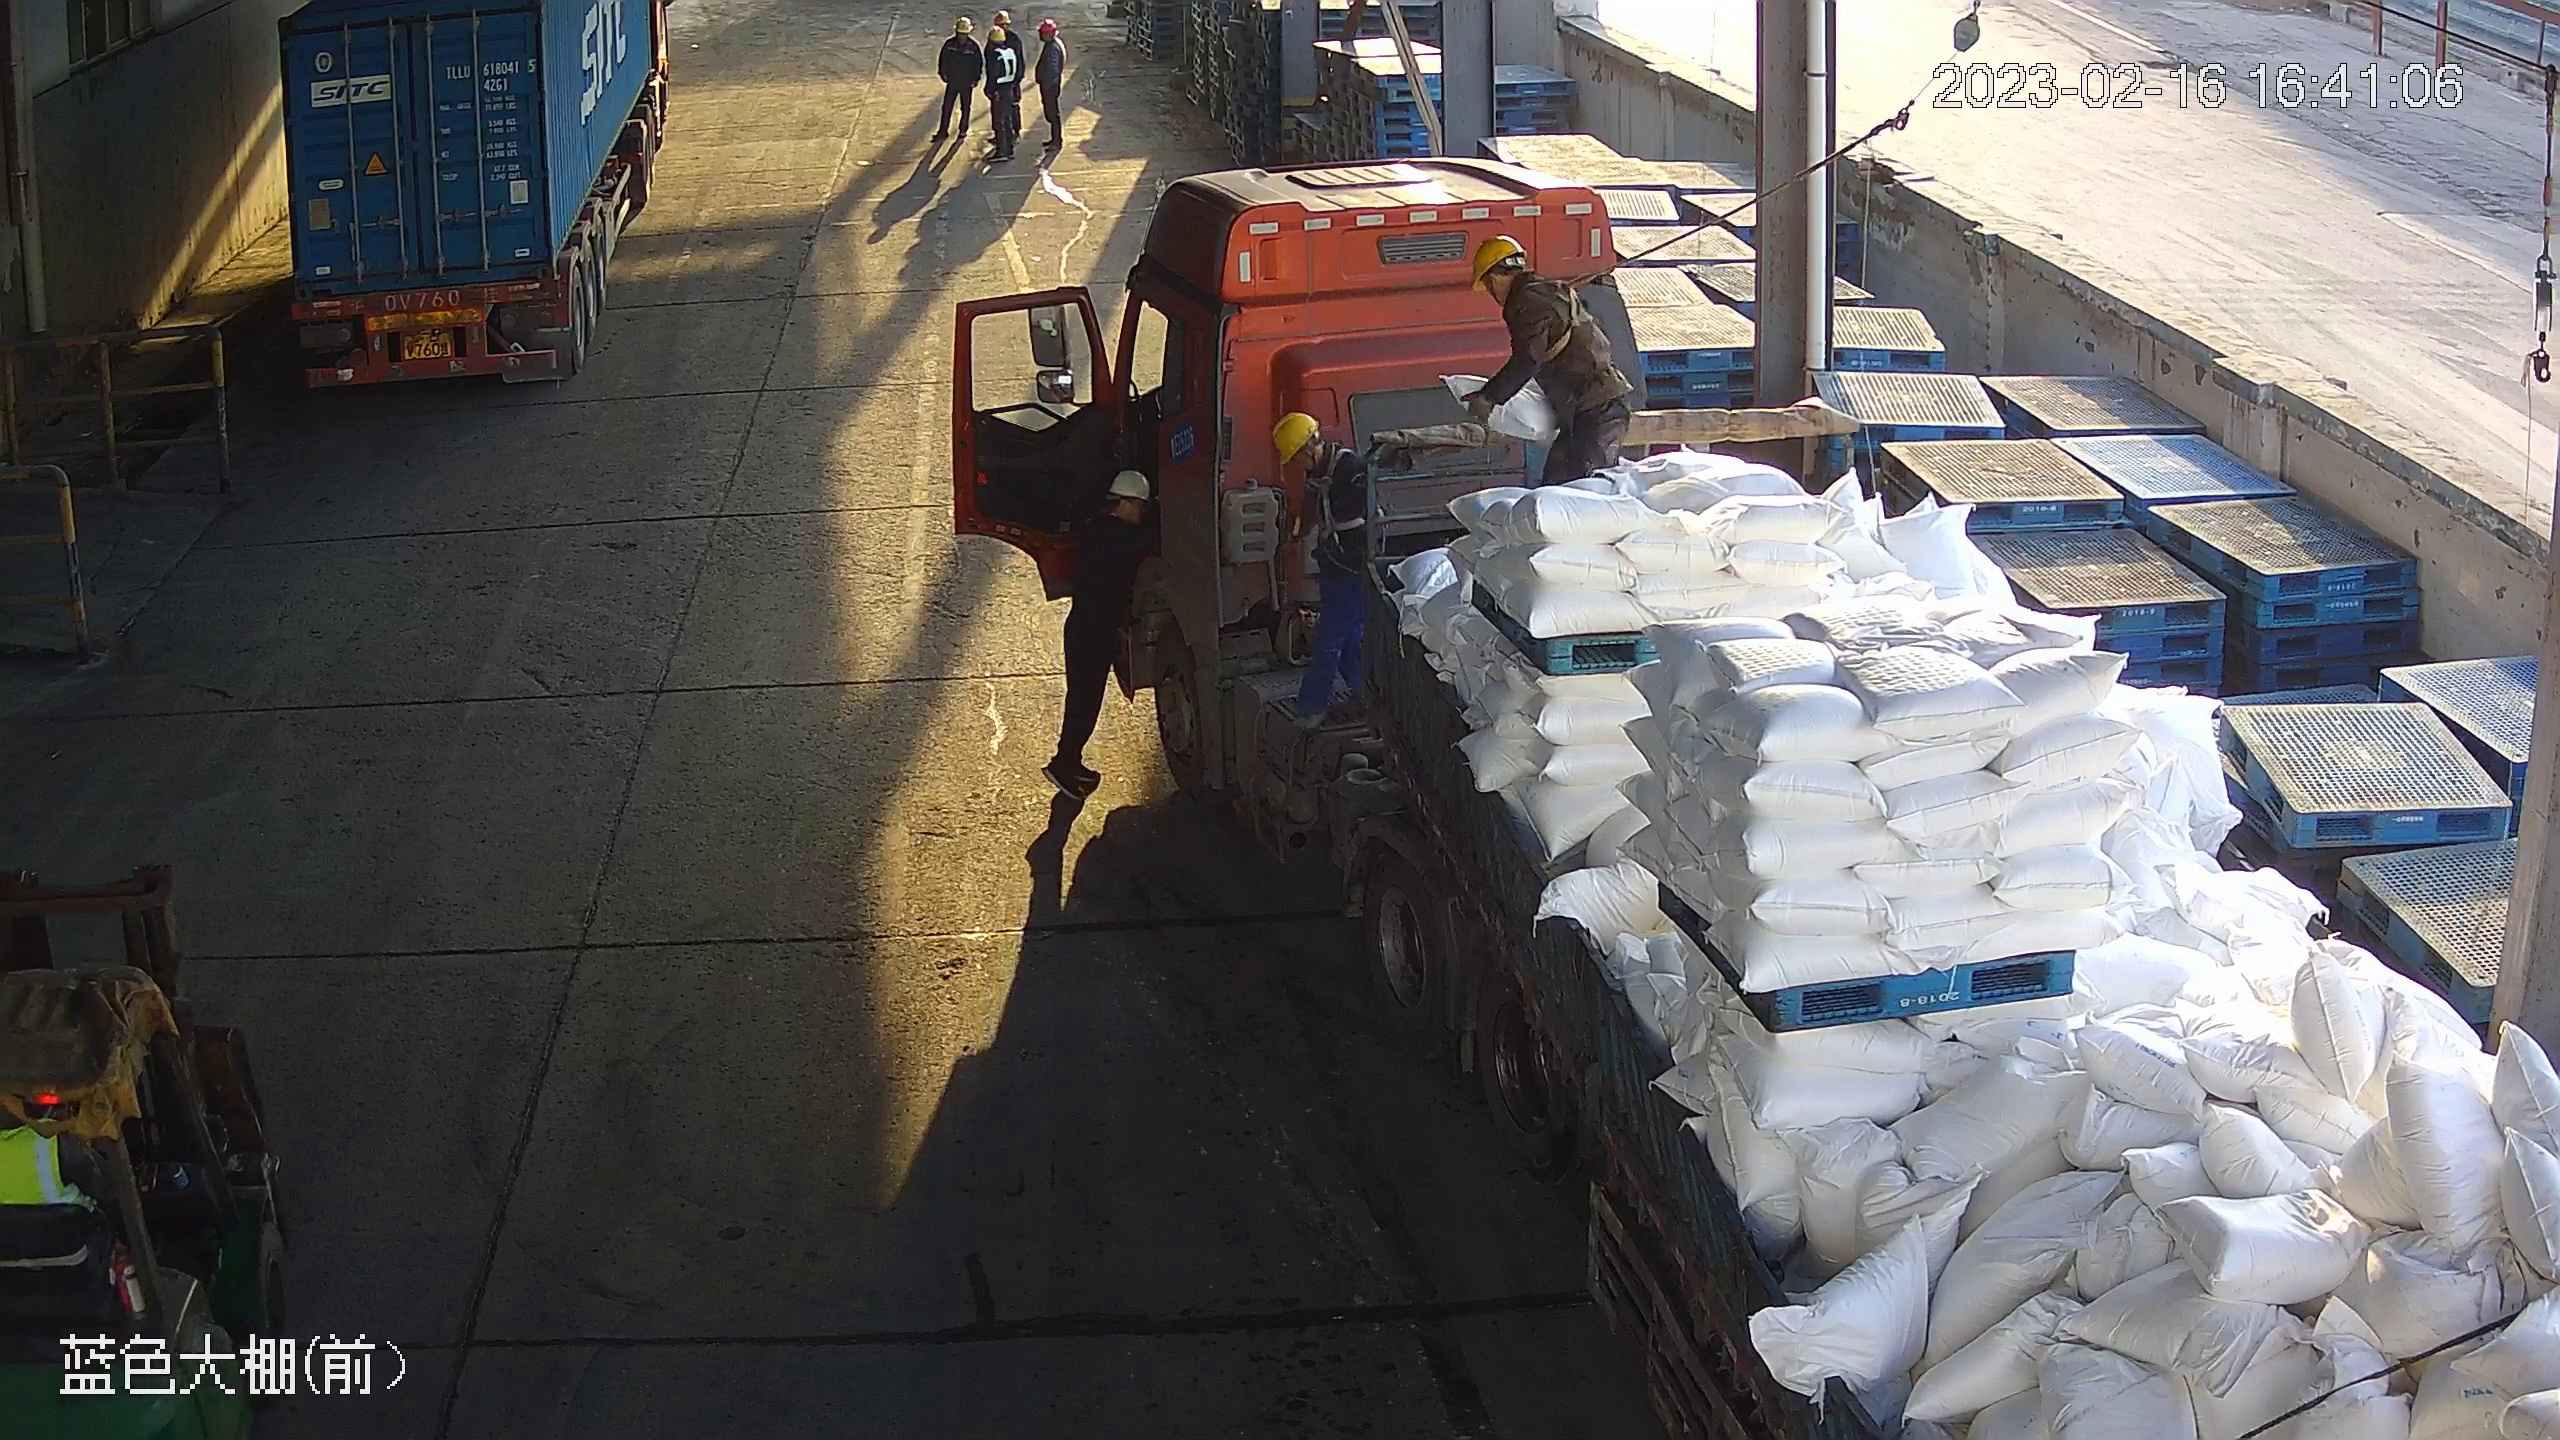belt: (1529, 266, 1594, 364), (1309, 456, 1365, 544)
head: (1461, 237, 1586, 337), (1057, 473, 1151, 597), (1270, 408, 1372, 520), (934, 14, 983, 68), (984, 24, 1018, 71), (1037, 19, 1064, 69)
helmet: (1468, 235, 1529, 296), (1268, 413, 1322, 464), (1037, 20, 1060, 34), (989, 26, 1007, 42), (953, 17, 974, 32), (992, 9, 1012, 23)
people: (1461, 235, 1636, 488), (1041, 466, 1153, 806), (1269, 411, 1376, 728), (929, 15, 983, 139), (983, 24, 1023, 164), (1035, 17, 1066, 155)
truck: (939, 152, 2560, 1440), (265, 1, 670, 395)
